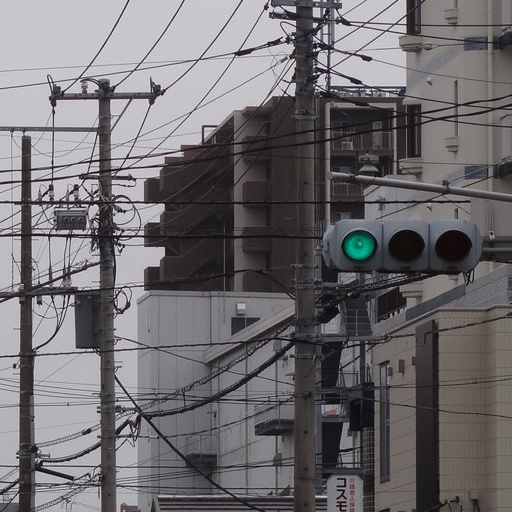Traffic_Signal_Blue: (332, 218, 483, 275)
